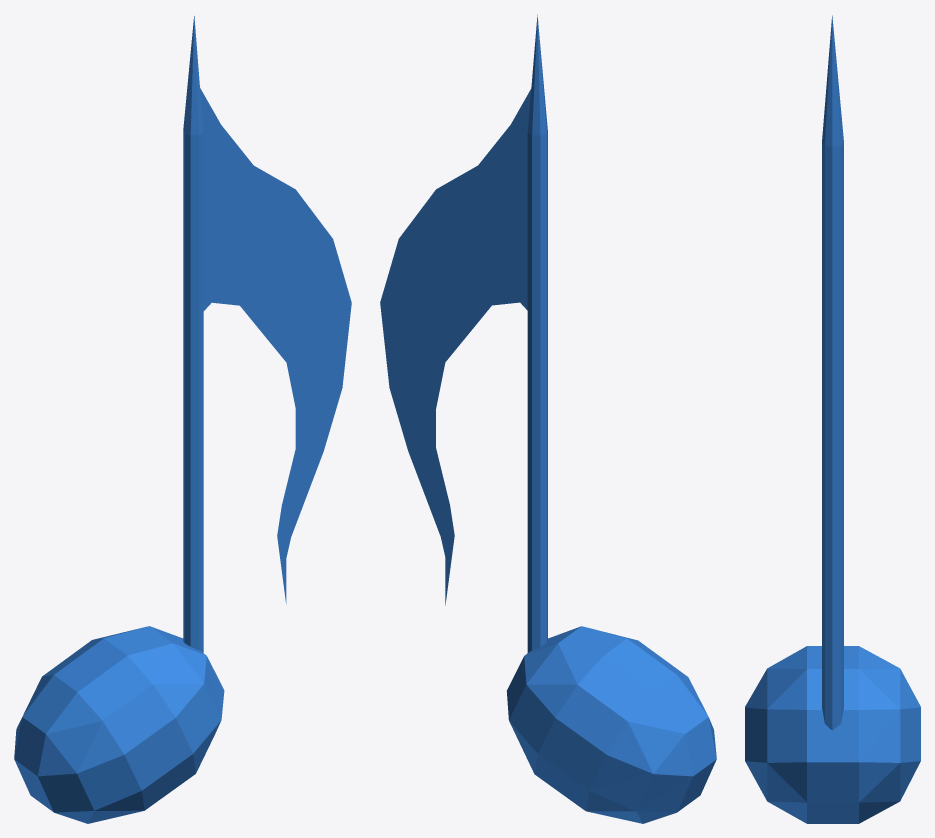
File: score.FBX
The picture shows the model from 3 angles, left to right: view 1: azimuth 30°, elevation 25°; view 2: azimuth 150°, elevation 25°; view 3: azimuth 270°, elevation 25°; orthographic projection. The views are drawn at different scales.
Parts seen in each view (by area): view 1: VIFS001; view 2: VIFS001; view 3: VIFS001.
Boxes of the visible parts, x1,y1,x2,y2 form: VIFS001: (14,16,351,823); VIFS001: (380,14,716,823); VIFS001: (745,15,920,823).
Bounding box in the file's own units: 0.279 × 0.633 × 0.119.
